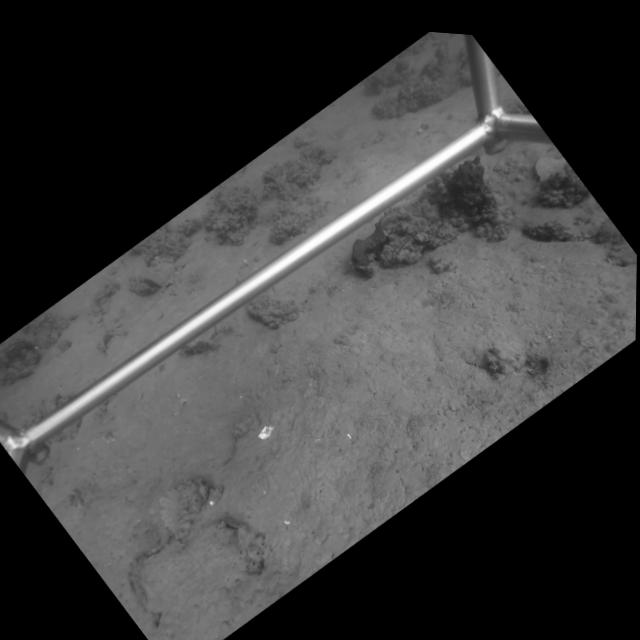Oyster-Closed: (514, 203, 612, 240), (392, 229, 434, 263)
Oyster-Open: (126, 276, 164, 295)
